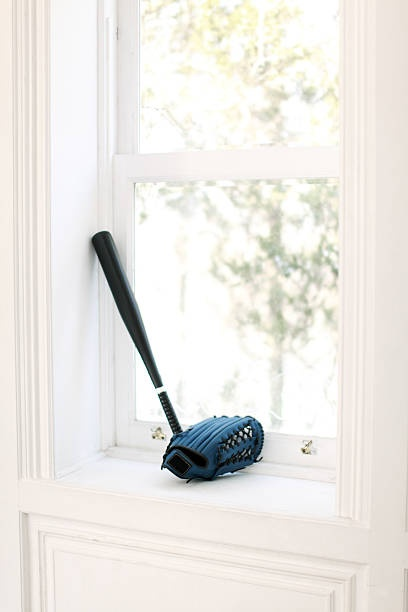bita: (90, 224, 192, 434)
